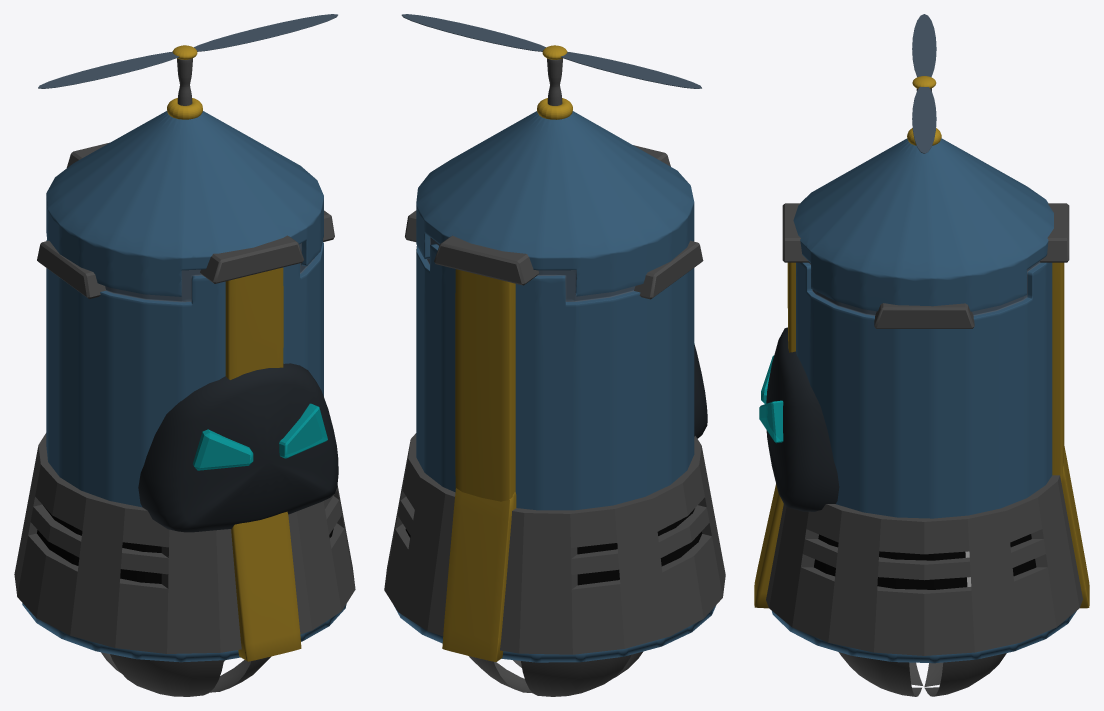
File: Enemy Body 1(COPTER).fbx
3 renders of one model, left to right at view 1: azimuth 30°, elevation 25°; view 2: azimuth 150°, elevation 25°; view 3: azimuth 270°, elevation 25°, orthographic. The views are drawn at different scales.
Visible parts, largest first — view 1: pCylinder1, pCylinder5, pCylinder4, pasted__pasted__pCube1 (×2), pasted__pCube1, pSphere1, pCube2, pCube1, pCylinder3, pasted__pCylinder3, pasted__pCube2, pasted__pSphere1 (+2 smaller); view 2: pCylinder1, pCylinder5, pasted__pasted__pCube1, pasted__pasted__pasted__pCube1 (×2), pasted__pSphere1 (×2), pCylinder3, pCube1, pasted__pCylinder3, pCylinder4, pCylinder2, pTorus1; view 3: pCylinder1, pCylinder5, pCylinder4, pasted__pasted__pCube1 (×3), pasted__pSphere1 (×2), pasted__pCube1 (×2), pasted__pasted__pasted__pCube1 (×2), pCylinder3, pasted__pCylinder3, pasted__pCube2.
Boxes of the visible parts, <box> form: pCylinder1: <box>22,111,346,662</box>; pCylinder5: <box>14,433,355,653</box>; pCylinder4: <box>138,363,338,532</box>; pasted__pasted__pCube1 (×2): <box>200,235,303,661</box>; pasted__pCube1: <box>225,267,283,379</box>; pSphere1: <box>110,654,223,696</box>; pCube2: <box>193,429,253,470</box>; pCube1: <box>37,240,106,298</box>; pCylinder3: <box>194,14,337,51</box>; pasted__pCylinder3: <box>38,51,178,88</box>; pasted__pCube2: <box>279,403,327,458</box>; pasted__pSphere1: <box>210,656,271,692</box>; pCylinder1: <box>394,111,715,662</box>; pCylinder5: <box>384,433,725,654</box>; pasted__pasted__pCube1: <box>455,269,515,501</box>; pasted__pasted__pasted__pCube1 (×2): <box>434,235,539,661</box>; pasted__pSphere1 (×2): <box>469,654,631,696</box>; pCylinder3: <box>401,14,545,51</box>; pCube1: <box>634,240,703,299</box>; pasted__pCylinder3: <box>561,52,701,88</box>; pCylinder4: <box>694,344,707,438</box>; pCylinder2: <box>547,58,562,105</box>; pTorus1: <box>537,98,572,119</box>; pCylinder1: <box>772,138,1076,663</box>; pCylinder5: <box>766,475,1082,655</box>; pCylinder4: <box>766,327,839,511</box>; pasted__pasted__pCube1 (×3): <box>754,203,1064,608</box>; pasted__pSphere1 (×2): <box>838,652,1006,696</box>; pasted__pCube1 (×2): <box>787,262,974,352</box>; pasted__pasted__pasted__pCube1 (×2): <box>1040,203,1089,608</box>; pCylinder3: <box>912,87,936,153</box>; pasted__pCylinder3: <box>912,14,936,77</box>; pasted__pCube2: <box>759,400,783,443</box>.
Size of the model in its own units: 3.25 by 6.58 by 3.29.
